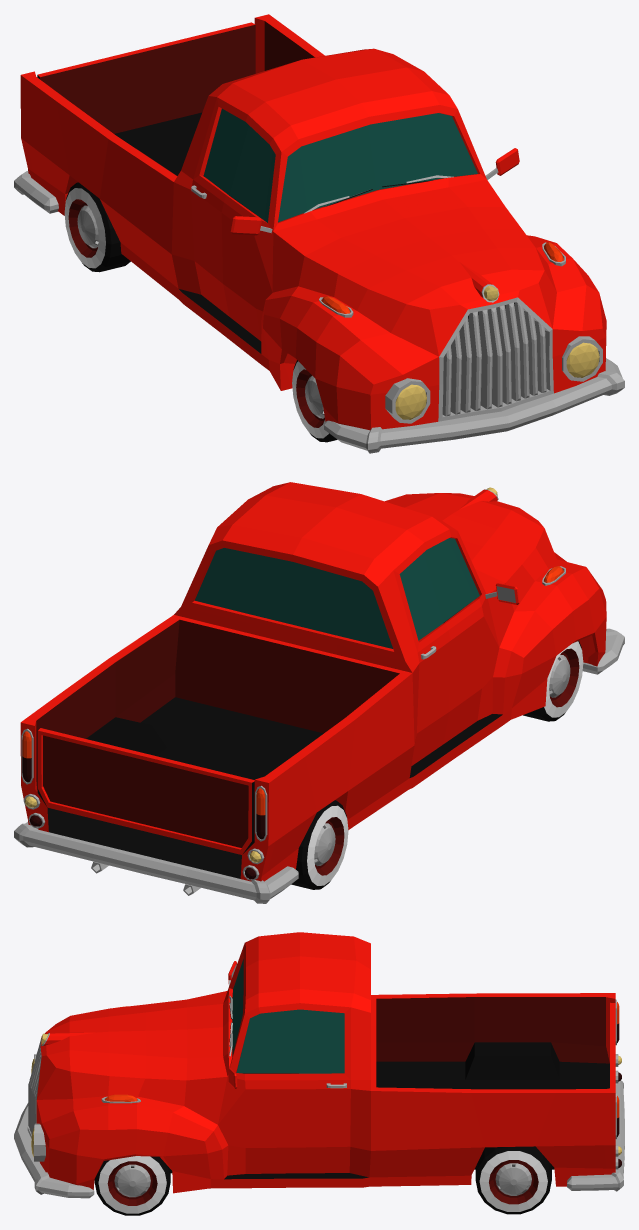
File: VintagePickup_02.FBX
3 renders of one model, top to bottom at view 1: azimuth 30°, elevation 25°; view 2: azimuth 150°, elevation 25°; view 3: azimuth 270°, elevation 25°, orthographic. The views are drawn at different scales.
Visible parts, largest first — view 1: VintagePickup_02, interieur, wheel_b_r, lights, headLights, wheel_f_r, mirrors; view 2: VintagePickup_02, wheel_b_r, wheel_f_r, interieur, lights, tailLights; view 3: VintagePickup_02, interieur, wheel_b_l, wheel_f_l, lights.
Part boxes in pixels (box(x1,y1,x2,y2)): VintagePickup_02: box(14, 14, 624, 453); interieur: box(203, 108, 477, 222); wheel_b_r: box(64, 182, 130, 272); lights: box(319, 242, 602, 423); headLights: box(395, 285, 599, 419); wheel_f_r: box(292, 360, 337, 442); mirrors: box(230, 148, 519, 235); VintagePickup_02: box(14, 482, 624, 903); wheel_b_r: box(291, 800, 348, 889); wheel_f_r: box(523, 641, 583, 721); interieur: box(399, 538, 479, 623); lights: box(21, 489, 565, 880); tailLights: box(22, 756, 265, 879); VintagePickup_02: box(14, 932, 624, 1198); interieur: box(232, 959, 344, 1073); wheel_b_l: box(475, 1146, 551, 1214); wheel_f_l: box(94, 1156, 170, 1215); lights: box(33, 999, 618, 1169).
Bounding box in the file's own units: 23.57 × 19.9 × 52.37.
